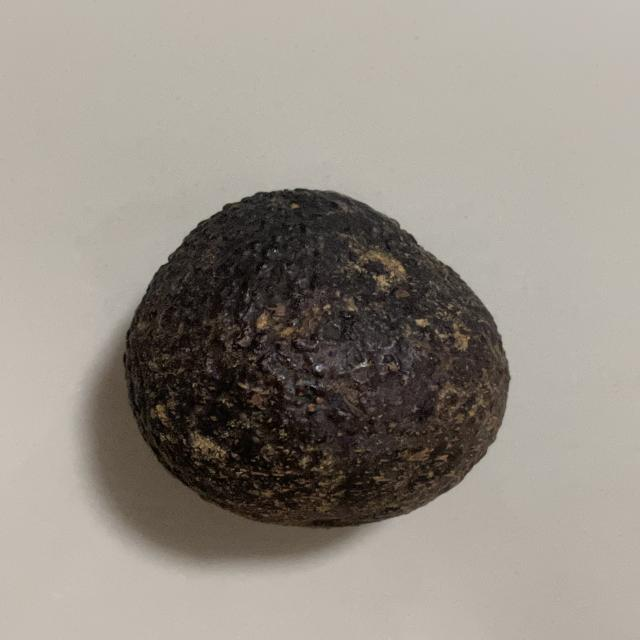Level4: (114, 178, 524, 534)
